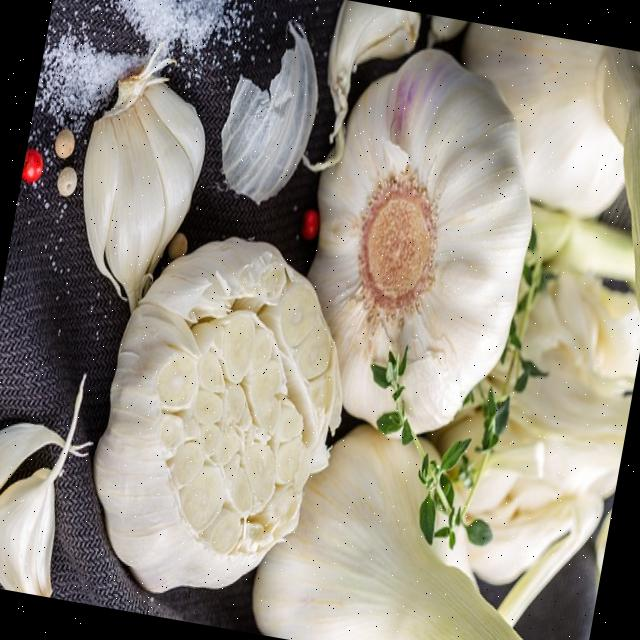garlic: (93, 238, 341, 591), (307, 51, 530, 433), (462, 270, 640, 622), (252, 425, 521, 640), (461, 22, 640, 312), (82, 45, 204, 310)
